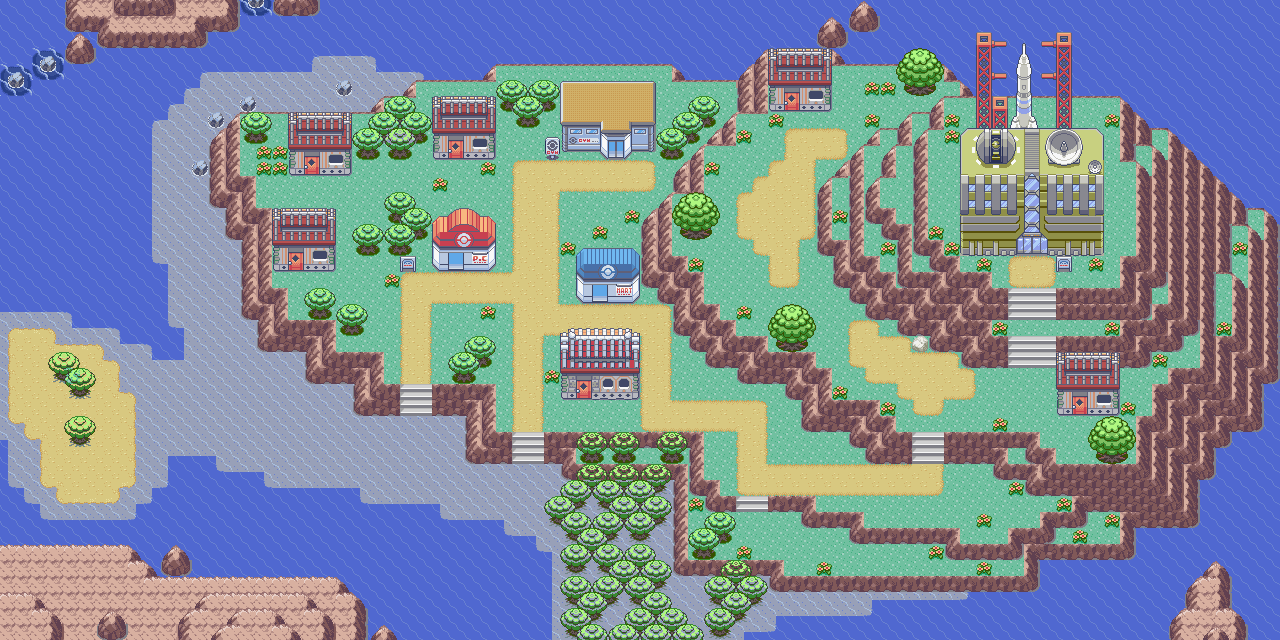gym: (556, 79, 660, 163)
misc: (958, 205, 1103, 259)
normal_house: (556, 326, 645, 403), (1051, 348, 1123, 420), (285, 109, 354, 179), (268, 205, 338, 274), (766, 47, 836, 116), (429, 94, 499, 162)
pokemart: (572, 244, 642, 306)
pokemon_center: (430, 206, 500, 277)
